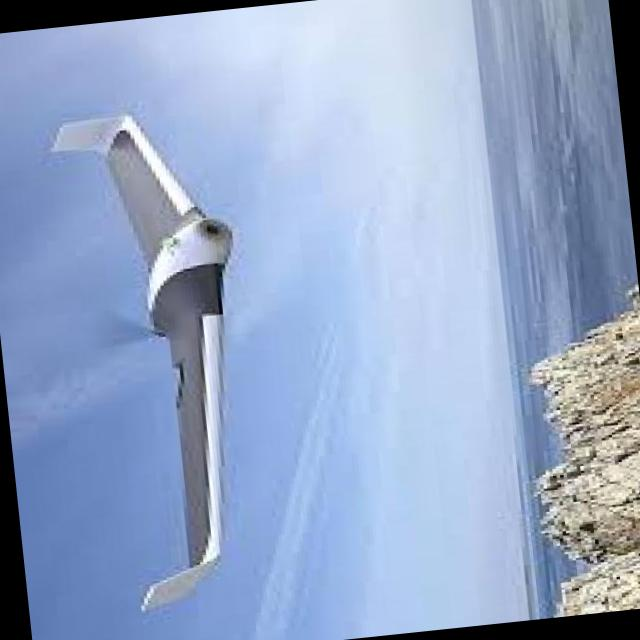UAV: (39, 3, 331, 620)
